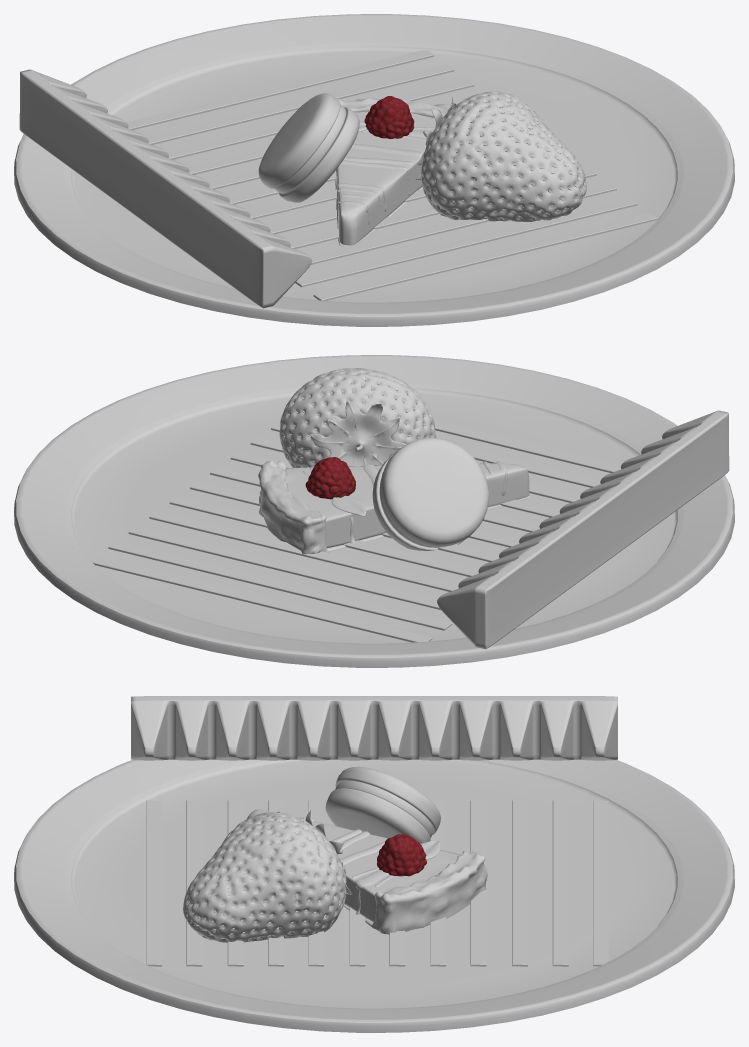
The model's file is Cakeslice_Oreo_choco.fbx.
3 views of the same model, one above another, from view 1: azimuth 30°, elevation 25°; view 2: azimuth 150°, elevation 25°; view 3: azimuth 270°, elevation 25° (orthographic).
Visible parts, largest first — view 1: Choco_slice_plate, Choco_bar, choco_lines, Strawberry2, cake_slice, Oreo, cherry; view 2: Choco_slice_plate, choco_lines, Choco_bar, Strawberry2, Oreo, cake_slice, cherry; view 3: Choco_slice_plate, Choco_bar, choco_lines, Strawberry2, cake_slice, Oreo, cherry.
Boxes of the visible parts, x1=… form: Choco_slice_plate: x1=14, y1=14, x2=734, y2=326; Choco_bar: x1=19, y1=69, x2=312, y2=308; choco_lines: x1=126, y1=50, x2=657, y2=300; Strawberry2: x1=416, y1=91, x2=586, y2=221; cake_slice: x1=335, y1=97, x2=452, y2=246; Oreo: x1=258, y1=93, x2=359, y2=202; cherry: x1=364, y1=96, x2=414, y2=138; Choco_slice_plate: x1=14, y1=355, x2=734, y2=667; choco_lines: x1=90, y1=420, x2=620, y2=642; Choco_bar: x1=437, y1=410, x2=729, y2=649; Strawberry2: x1=279, y1=368, x2=436, y2=467; Oreo: x1=372, y1=437, x2=489, y2=550; cake_slice: x1=258, y1=460, x2=530, y2=554; cherry: x1=305, y1=457, x2=355, y2=499; Choco_slice_plate: x1=14, y1=759, x2=734, y2=1032; Choco_bar: x1=131, y1=696, x2=617, y2=760; choco_lines: x1=146, y1=800, x2=608, y2=966; Strawberry2: x1=183, y1=810, x2=352, y2=942; cake_slice: x1=247, y1=809, x2=487, y2=934; Oreo: x1=325, y1=766, x2=440, y2=843; cherry: x1=377, y1=834, x2=426, y2=876.
Size of the model in its own units: 1442 by 261 by 1442.
